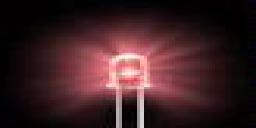LED: (100, 49, 154, 128)
